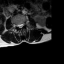CCS_severe_stenosis: (19, 20, 21, 29)
LFS_normal: (23, 19, 25, 27)
LLS_normal: (21, 21, 23, 28)
RFS_normal: (15, 21, 17, 28)
RLS_normal: (17, 21, 19, 29)
